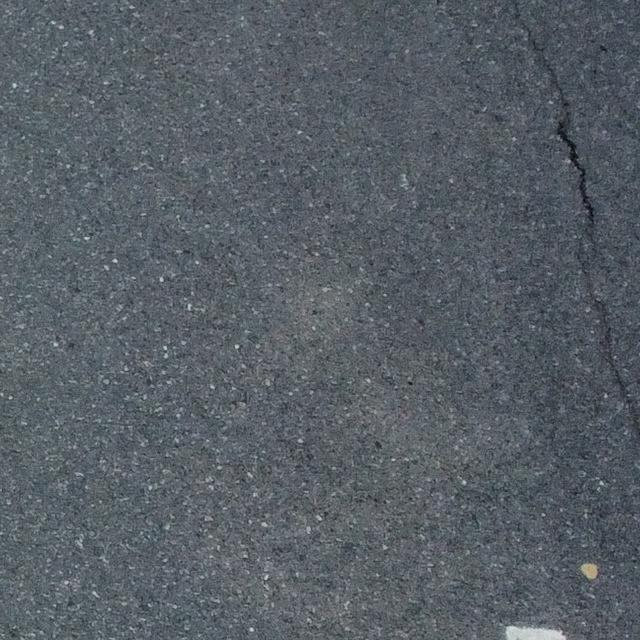LongitudinalCrack: (514, 5, 636, 420)
